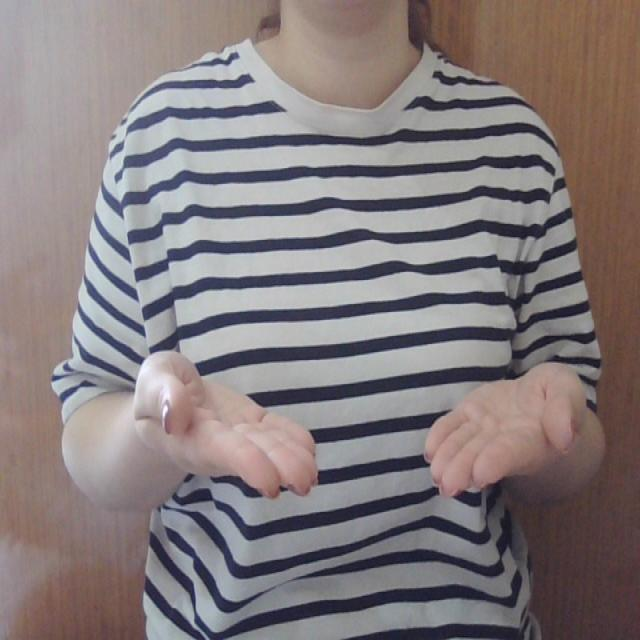Evet: (131, 344, 591, 505)
